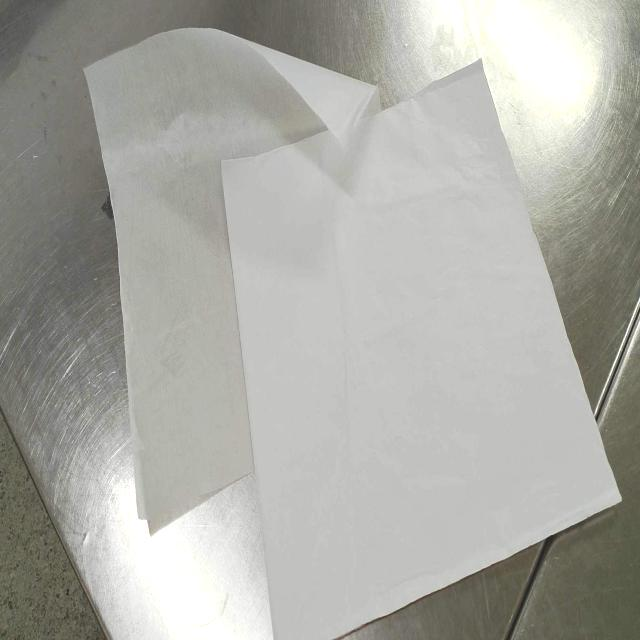Infectious: (219, 55, 624, 638), (82, 25, 337, 533)
Sharps: (591, 294, 640, 423)
